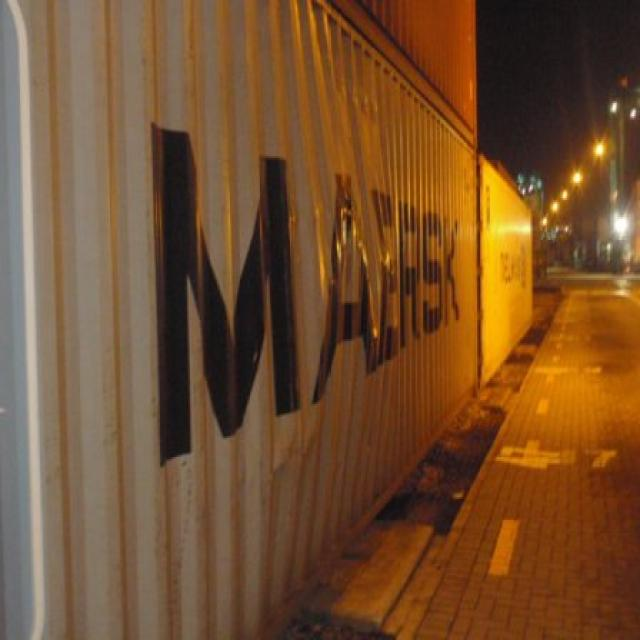dent: (329, 70, 385, 131)
